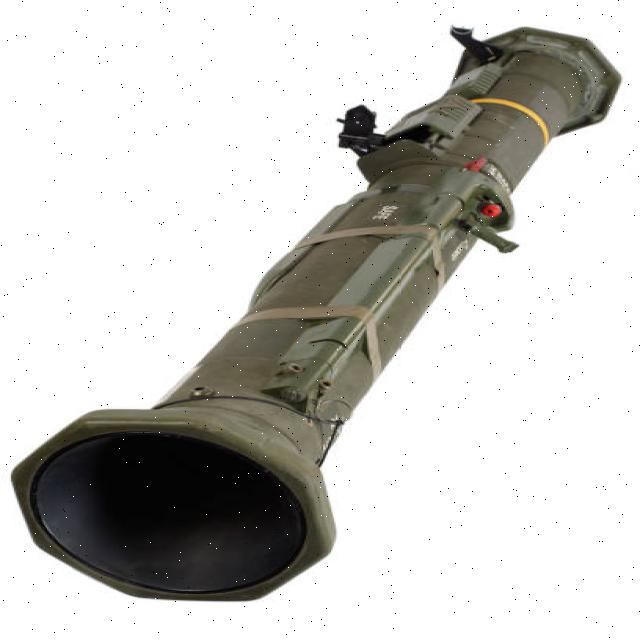bazooka: (5, 11, 630, 615)
